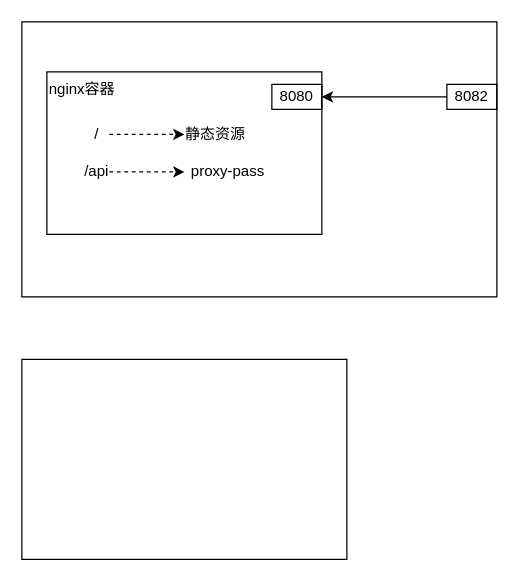
Some shapes in this 519 by 581 pixel diagram are drawn without their labels. The shapes that lost their labels are listed below. From the top down, each one's box as (x1, y1, x2, y2) in pixels, then its label:
(21, 21, 497, 297): 前端宿主机
(21, 358, 347, 559): 后端宿主机
